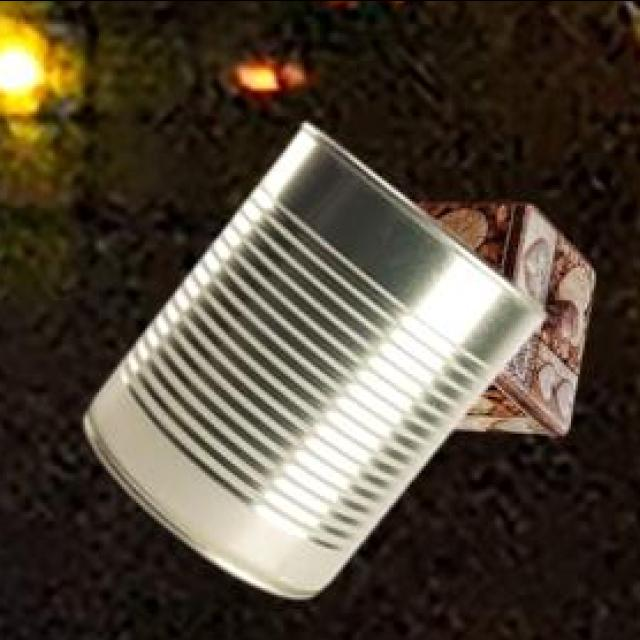logam: (89, 125, 549, 600), (418, 206, 597, 439)
